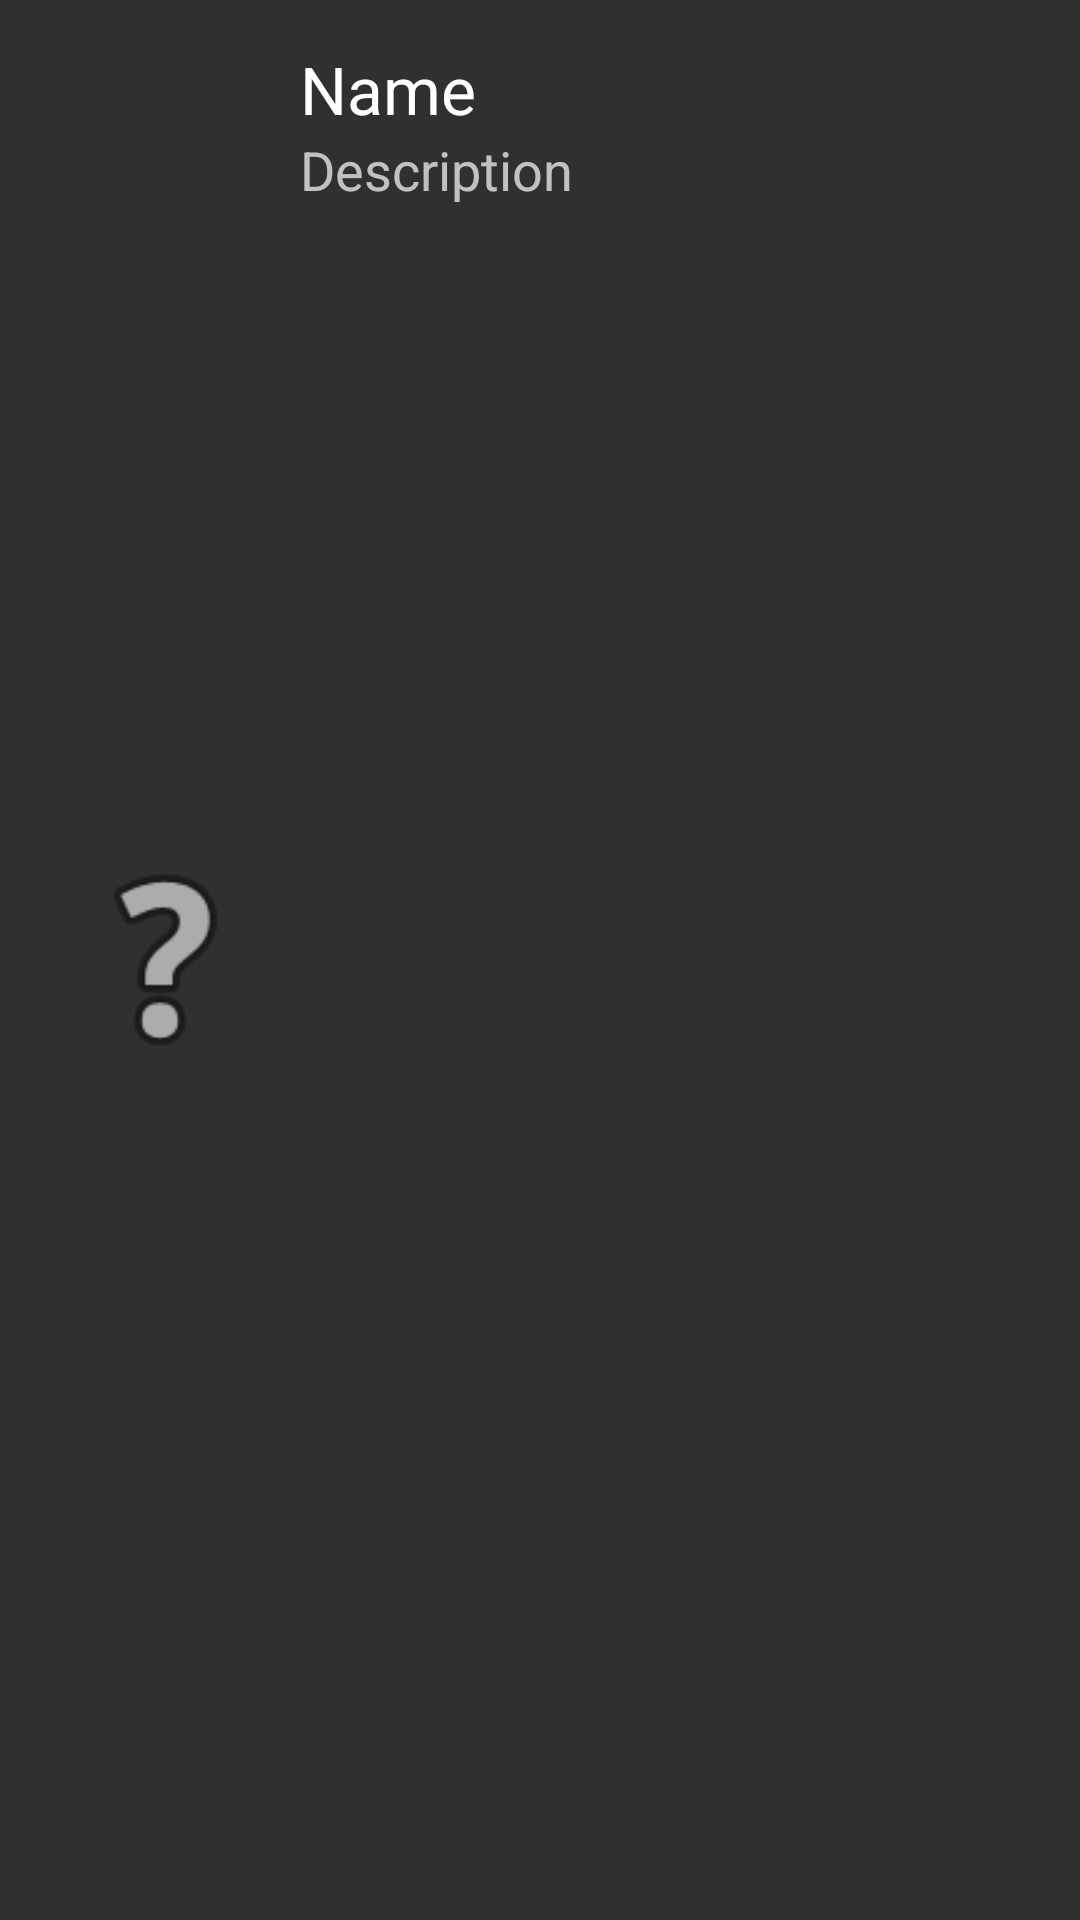

Icon bounding boxes for this 1080px x 1920px phone screenshot, format detection(x1, y1, x2, y2):
help: detection(120, 880, 212, 1040)
